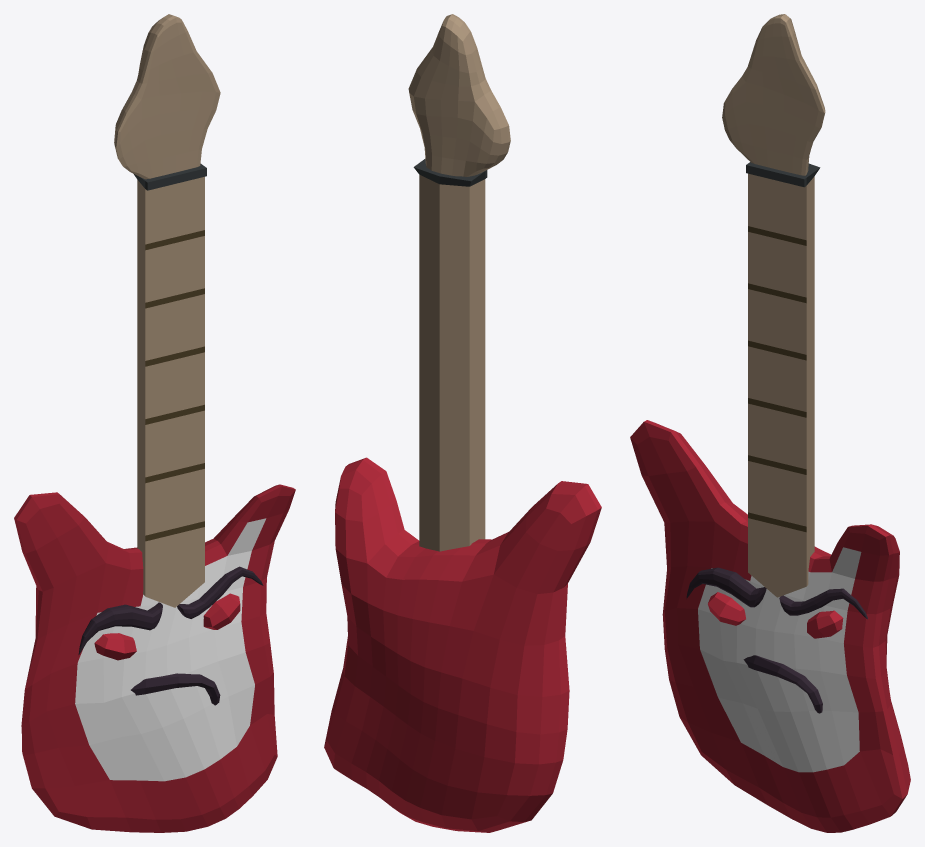
File: LD51GuitarEnemy.fbx
3 renders of one model, left to right at view 1: azimuth 30°, elevation 25°; view 2: azimuth 150°, elevation 25°; view 3: azimuth 330°, elevation 25°, orthographic. The views are drawn at different scales.
Parts seen in each view (by area): view 1: GuitarEnemy; view 2: GuitarEnemy; view 3: GuitarEnemy.
Boxes of the visible parts, box(x1,y1,x2,y2) form: GuitarEnemy: box(14, 14, 295, 832); GuitarEnemy: box(324, 14, 601, 832); GuitarEnemy: box(630, 14, 910, 832).
Size of the model in its own units: 248 by 73.77 by 727.
